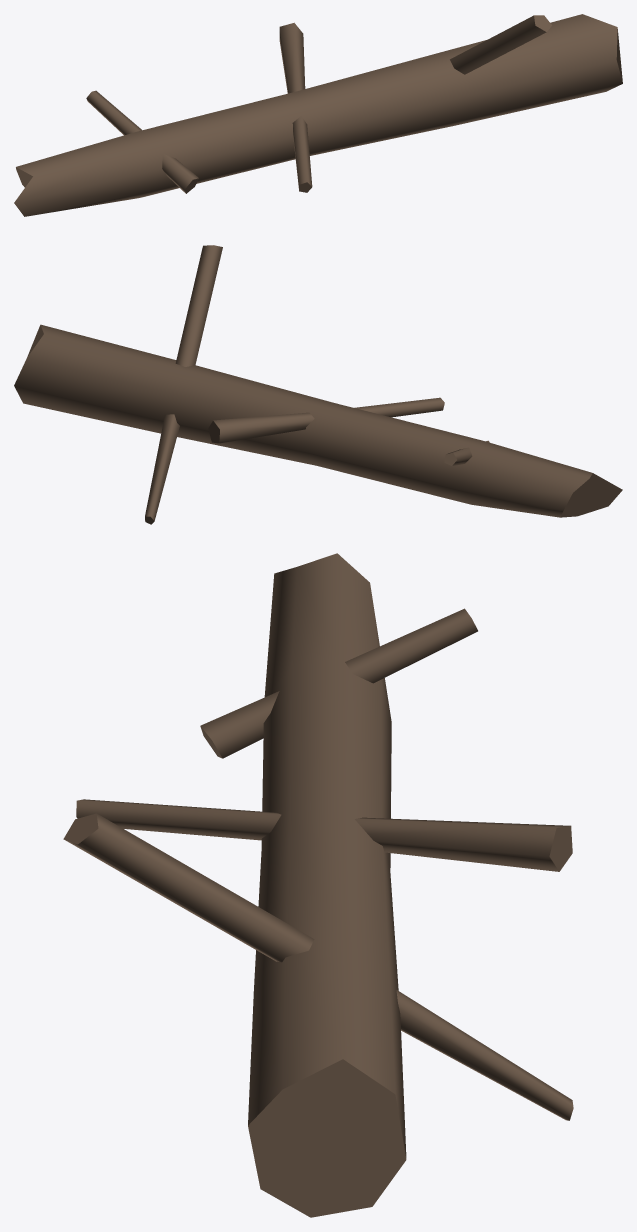
Rendered from driftwood-2.glb.
3 renders of one model, top to bottom at view 1: azimuth 30°, elevation 25°; view 2: azimuth 150°, elevation 25°; view 3: azimuth 270°, elevation 25°, orthographic. The views are drawn at different scales.
Parts seen in each view (by area): view 1: driftwood-2; view 2: driftwood-2; view 3: driftwood-2.
Boxes of the visible parts, left/top/right/bottom form: driftwood-2: left=14, top=14, right=622, bottom=216; driftwood-2: left=14, top=245, right=622, bottom=524; driftwood-2: left=63, top=553, right=573, bottom=1217.
Bounding box in the file's own units: 5.03 × 1.49 × 1.92.
